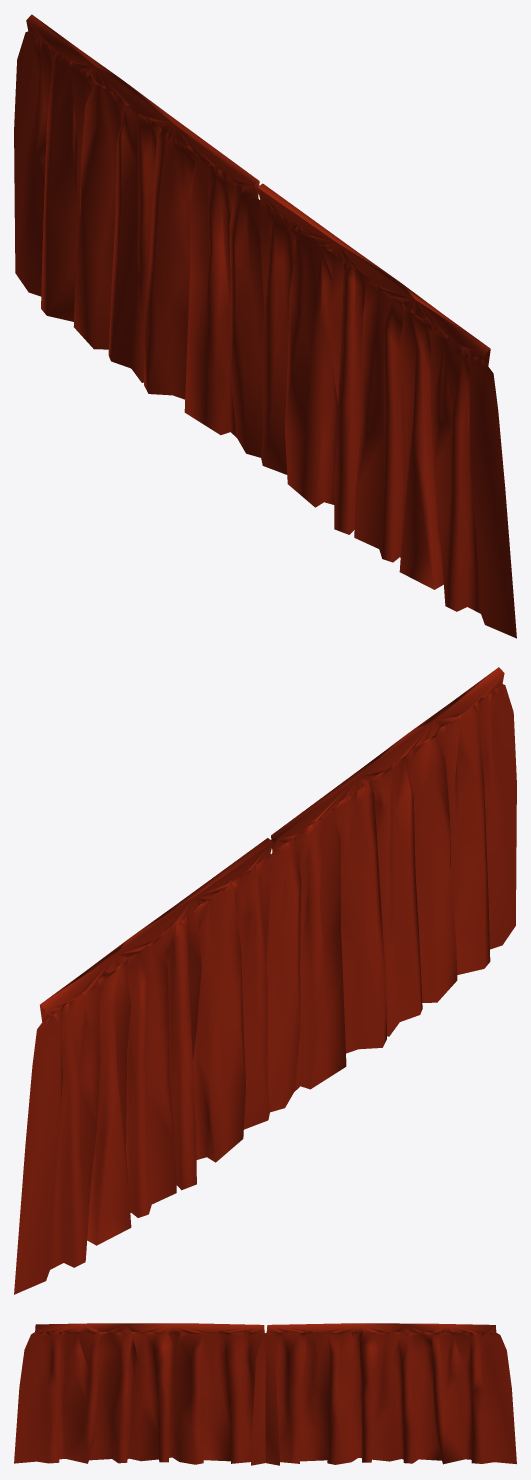
Rendered from Curtain4.fbx.
3 renders of one model, top to bottom at view 1: azimuth 30°, elevation 25°; view 2: azimuth 150°, elevation 25°; view 3: azimuth 270°, elevation 25°, orthographic. The views are drawn at different scales.
Visible parts, largest first — view 1: Cloth_Shape.001; view 2: Cloth_Shape.001; view 3: Cloth_Shape.001.
Boxes of the visible parts, box(x1,y1,x2,y2) form: Cloth_Shape.001: box(14, 14, 516, 638); Cloth_Shape.001: box(14, 667, 516, 1294); Cloth_Shape.001: box(14, 1323, 516, 1465).
Size of the model in its own units: 0.2502 by 6.88 by 2.1.
